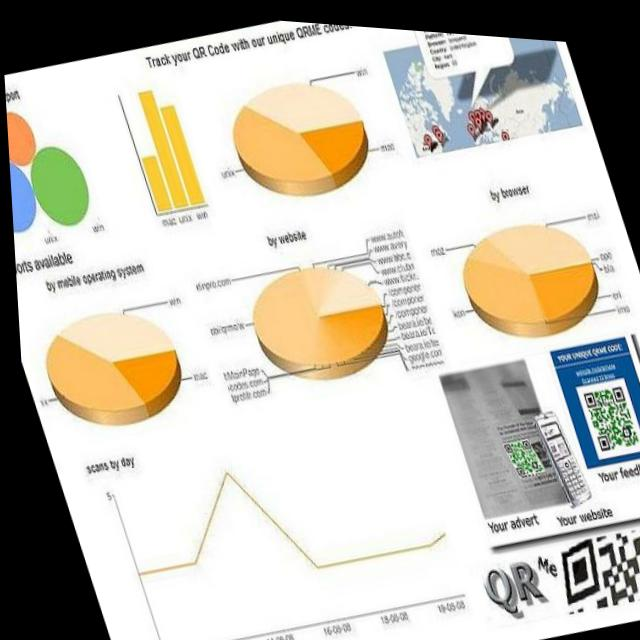qrcode: (539, 495, 640, 612), (579, 376, 634, 443), (498, 430, 539, 471)
